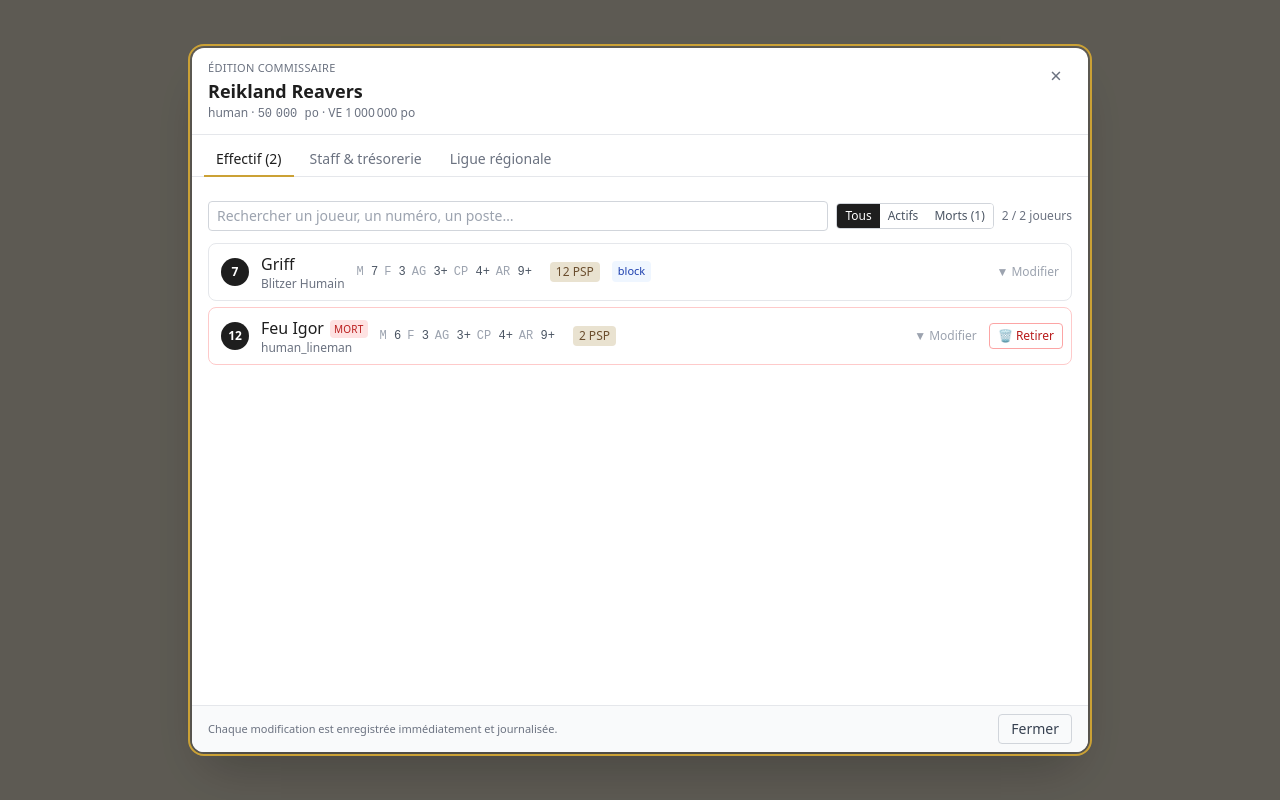
CommissionerTeamEditor — dialogue et effectif › applique un ajustement de PSP et confirme l'action
Check: the list item with test id "player-edit-alive1" is shown, box x1=208 y1=242 x2=1072 y2=300
Click the button with test id "player-toggle-alive1" at (640, 272), box x1=217 y1=250 x2=1063 y2=294
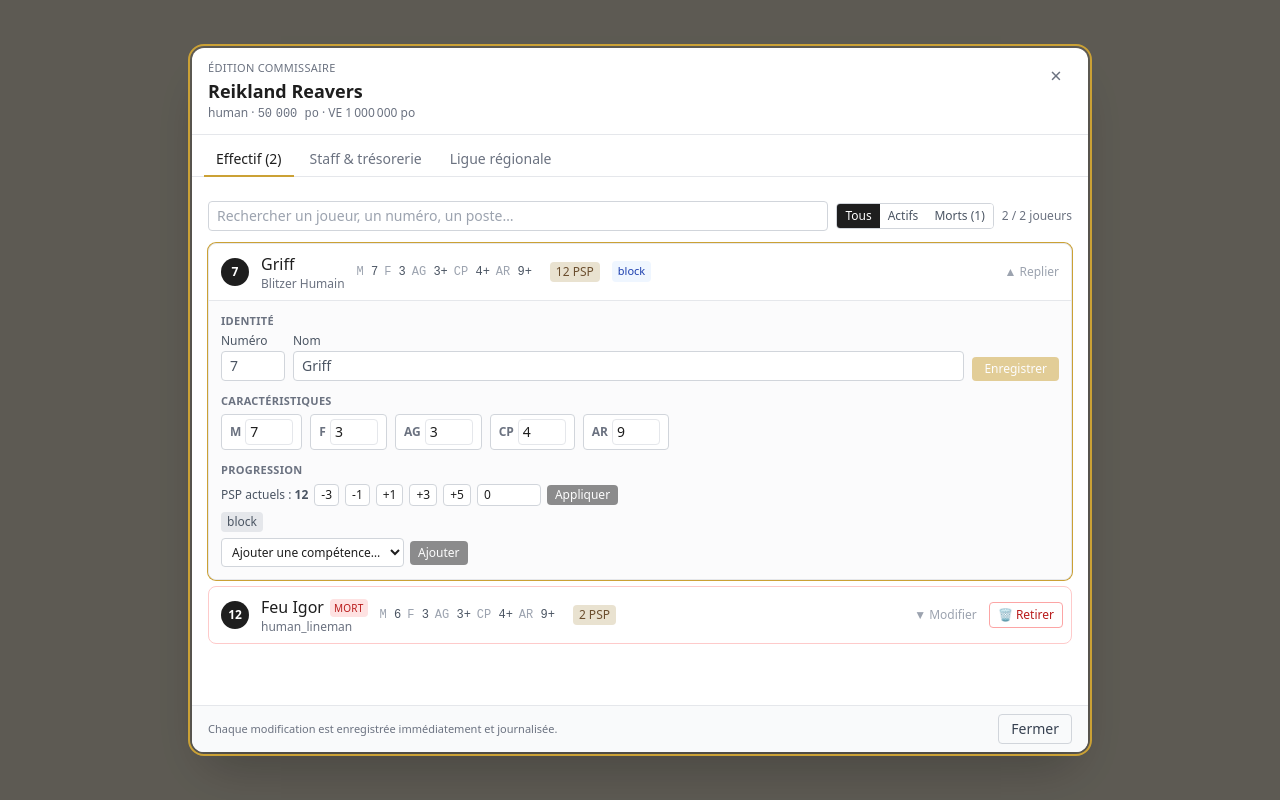
Replace the text in the number field named "Ajustement de PSP" with "3" at (509, 495), box x1=477 y1=484 x2=541 y2=506
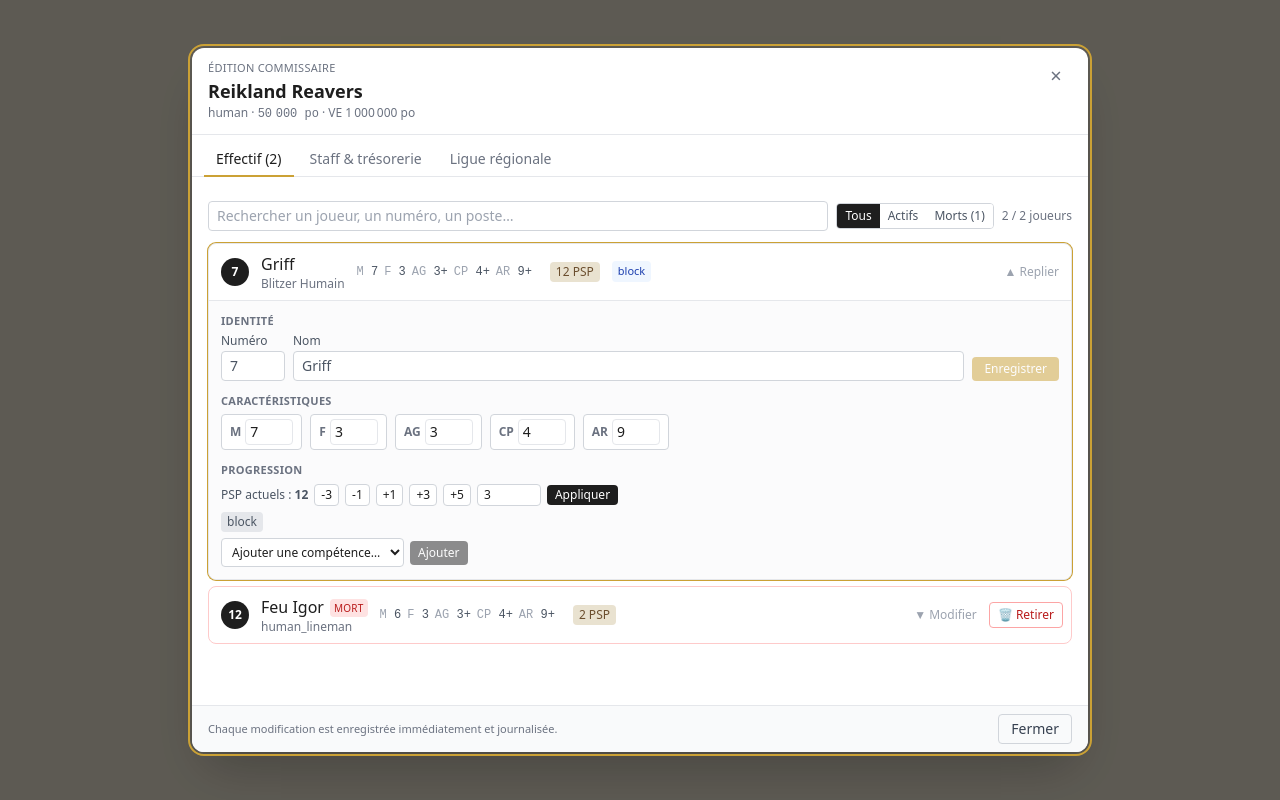
Click the button with test id "spp-apply-alive1" at (583, 495), box x1=547 y1=485 x2=618 y2=505
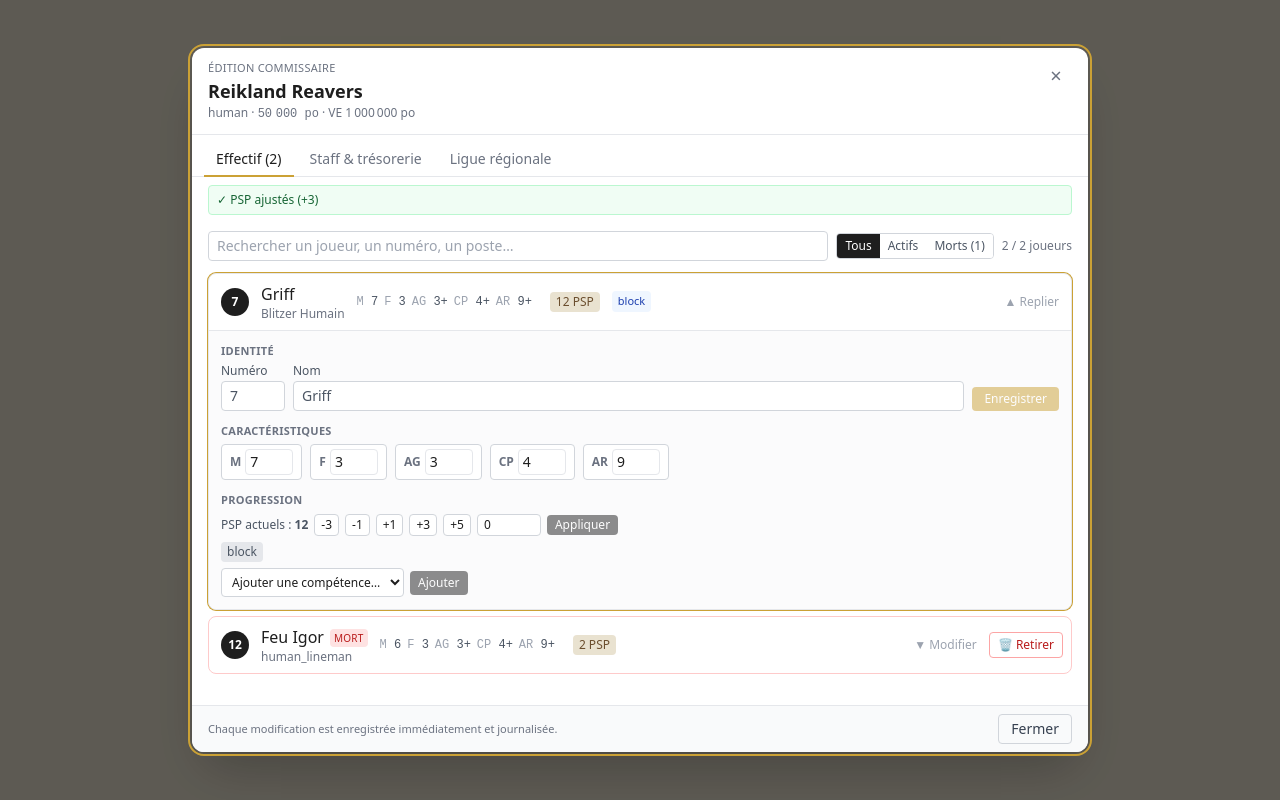
Check: the message with test id "editor-flash" shows "PSP", box x1=230 y1=190 x2=318 y2=208
